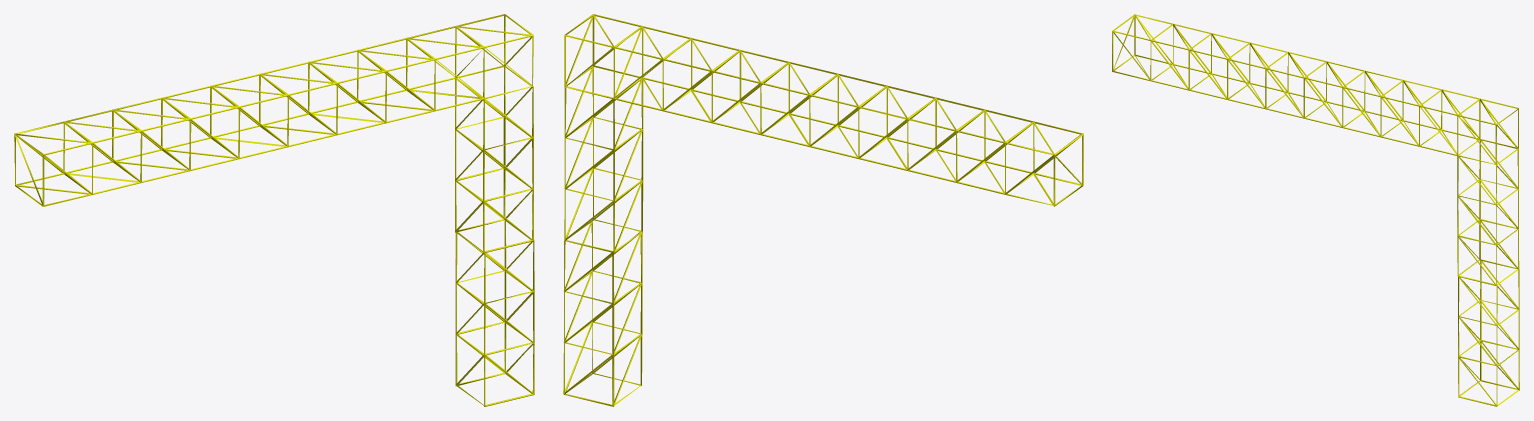
Rendered from Billboard2.fbx.
The picture shows the model from 3 angles, left to right: view 1: azimuth 30°, elevation 25°; view 2: azimuth 150°, elevation 25°; view 3: azimuth 330°, elevation 25°; orthographic projection. The views are drawn at different scales.
Parts seen in each view (by area): view 1: Billboard_Metal_2; view 2: Billboard_Metal_2; view 3: Billboard_Metal_2.
Part boxes in pixels (box(x1,y1,x2,y2)): Billboard_Metal_2: box(14, 14, 534, 406); Billboard_Metal_2: box(563, 14, 1083, 406); Billboard_Metal_2: box(1112, 14, 1519, 406).
Size of the model in its own units: 1206 by 845 by 124.
